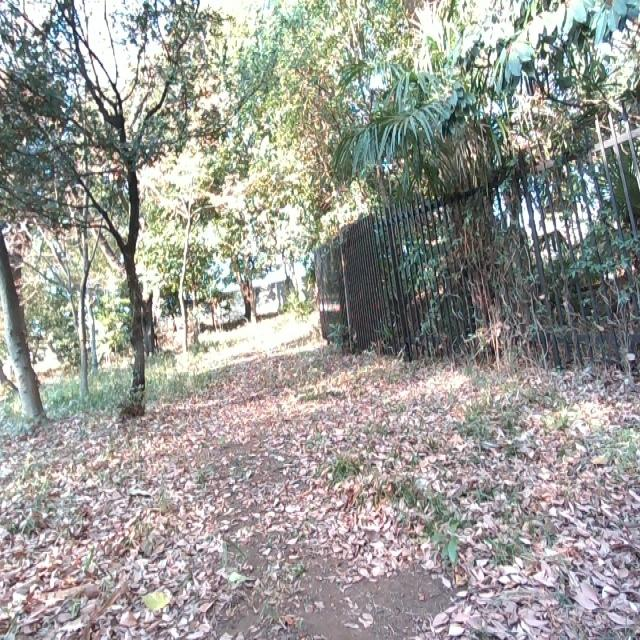artifact: (308, 119, 640, 373)
tree: (18, 0, 196, 400), (0, 196, 52, 426)
